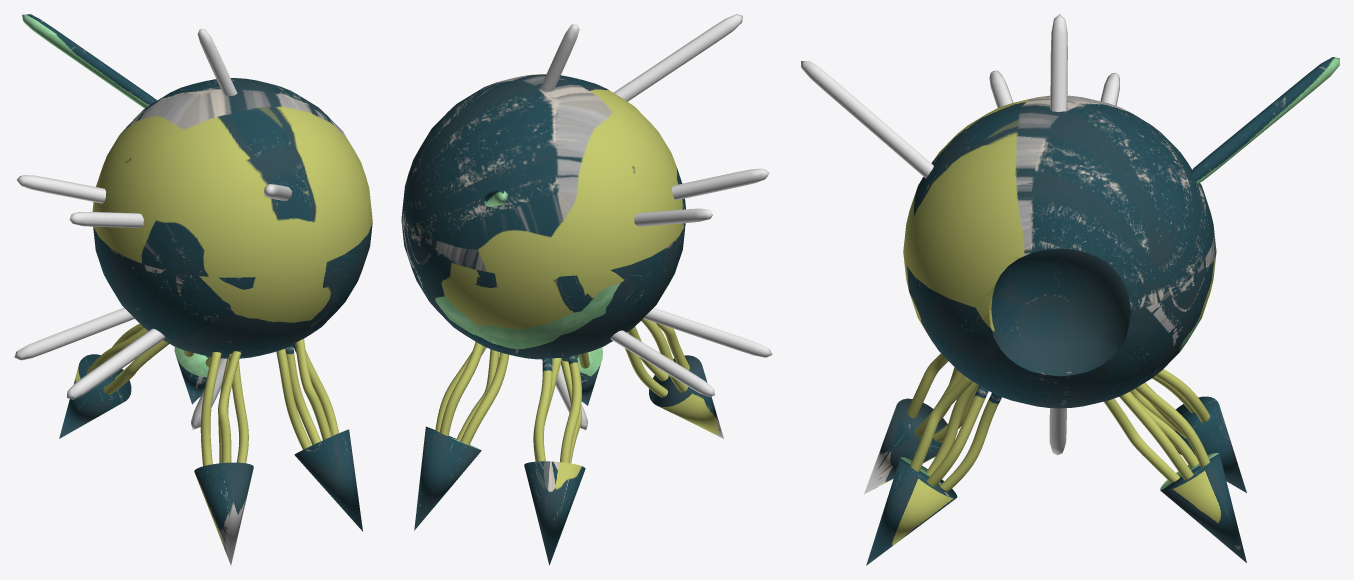
The model's file is drone_explode_Brian.fbx.
3 renders of one model, left to right at view 1: azimuth 30°, elevation 25°; view 2: azimuth 150°, elevation 25°; view 3: azimuth 270°, elevation 25°, orthographic. The views are drawn at different scales.
Parts seen in each view (by area): view 1: Sphere, Hand.002, Hand.003, Hand.001, HeadStick_1, HeadStick_1.002, HeadStick_1.003, HeadStick_1.006, Hand, HeadStick_1.007, HeadStick_1.001, HeadStick_1.005; view 2: Sphere, Hand.001, Hand, Hand.003, HeadStick_1.004, HeadStick_1.003, HeadStick_1.002, HeadStick_1.007, HeadStick_1.006, HeadStick_1.001, Hand.002, HeadStick_1.005; view 3: Sphere, Hand.002, Hand, Hand.003, Hand.001, HeadStick_1, HeadStick_1.004, HeadStick_1.001, HeadStick_1.005.
Boxes of the visible parts, x1,y1,x2,y2 form: Sphere: (92,78,372,358); Hand.002: (276,339,362,531); Hand.003: (194,351,253,565); Hand.001: (59,323,169,438); HeadStick_1: (22,14,156,108); HeadStick_1.002: (14,307,134,360); HeadStick_1.003: (67,328,165,399); HeadStick_1.006: (17,175,106,203); Hand: (174,347,211,404); HeadStick_1.007: (69,212,143,227); HeadStick_1.001: (197,28,237,96); HeadStick_1.005: (191,358,227,429); Sphere: (401,74,685,359); Hand.001: (524,355,585,565); Hand: (414,342,509,530); Hand.003: (625,318,723,438); HeadStick_1.004: (613,14,742,101); HeadStick_1.003: (643,308,772,357); HeadStick_1.002: (610,330,714,396); HeadStick_1.007: (672,168,769,200); HeadStick_1.006: (634,208,712,226); HeadStick_1.001: (540,24,579,91); Hand.002: (561,347,602,405); HeadStick_1.005: (555,364,587,430); Sphere: (903,95,1216,408); Hand.002: (866,376,1001,565); Hand: (1104,383,1246,562); Hand.003: (864,353,978,494); Hand.001: (1130,369,1246,492); HeadStick_1: (1191,57,1339,183); HeadStick_1.004: (801,61,933,178); HeadStick_1.001: (1050,14,1067,111); HeadStick_1.005: (1049,408,1066,455).
Bounding box in the file's own units: 210 × 303 × 289.
